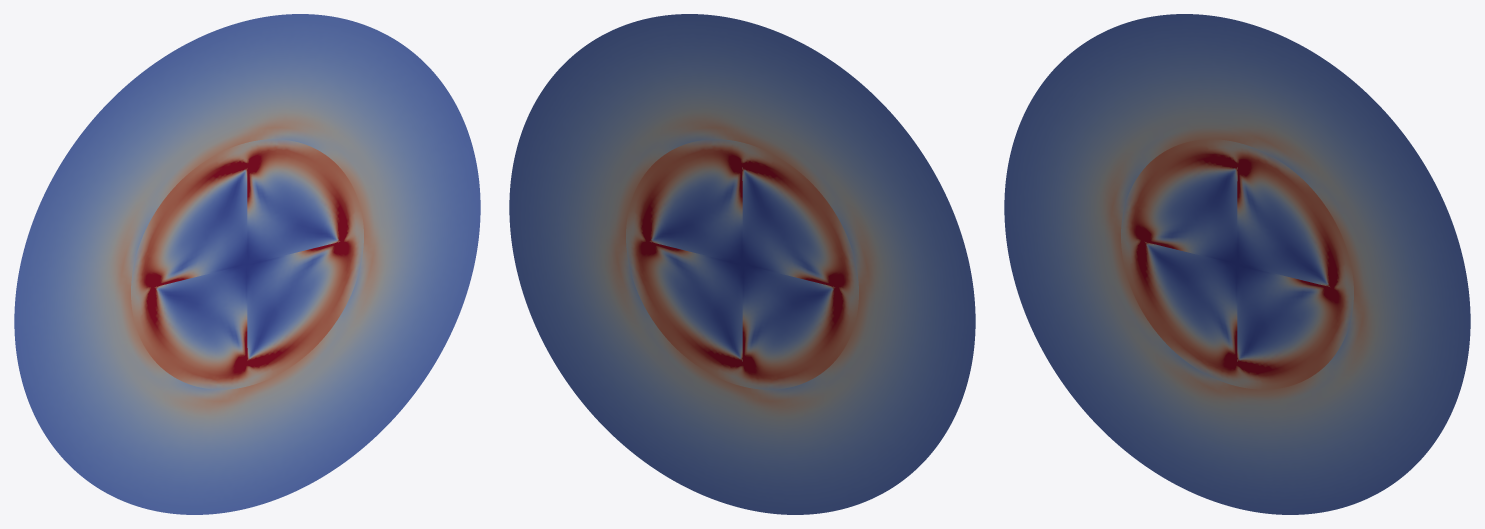
File: shear_c42.fbx
The picture shows the model from 3 angles, left to right: view 1: azimuth 30°, elevation 25°; view 2: azimuth 150°, elevation 25°; view 3: azimuth 330°, elevation 25°; orthographic projection.
Parts seen in each view (by area): view 1: Shape_IndexedFaceSet.020; view 2: Shape_IndexedFaceSet.020; view 3: Shape_IndexedFaceSet.020.
Part boxes in pixels (left/top/right/bottom): Shape_IndexedFaceSet.020: left=14, top=14, right=480, bottom=514; Shape_IndexedFaceSet.020: left=509, top=14, right=975, bottom=514; Shape_IndexedFaceSet.020: left=1004, top=14, right=1470, bottom=514.
Size of the model in its own units: 100 by 100 by 2.22e-05.
